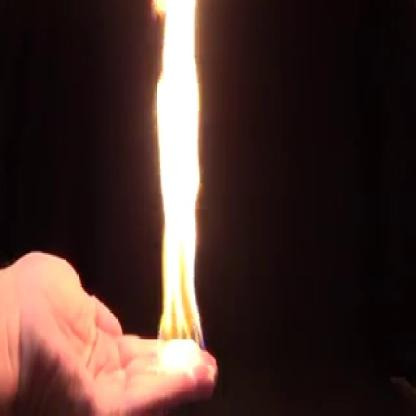fire: (137, 0, 219, 378)
